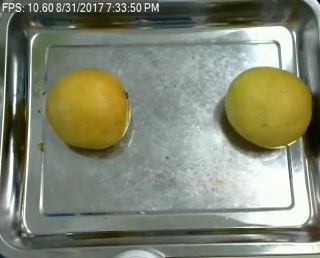Mango: (225, 67, 311, 150), (43, 70, 130, 149)
